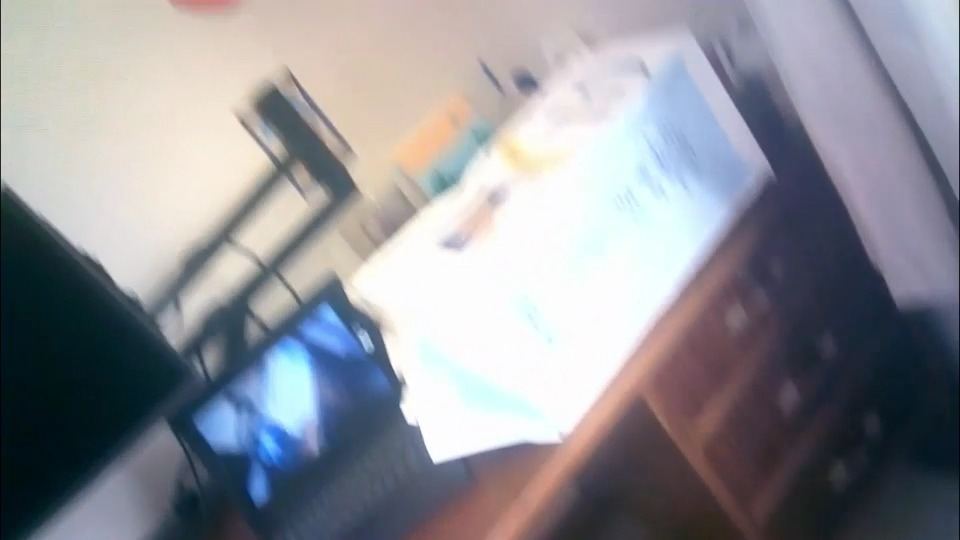wheat_flour_blue_label: (347, 29, 771, 444)
